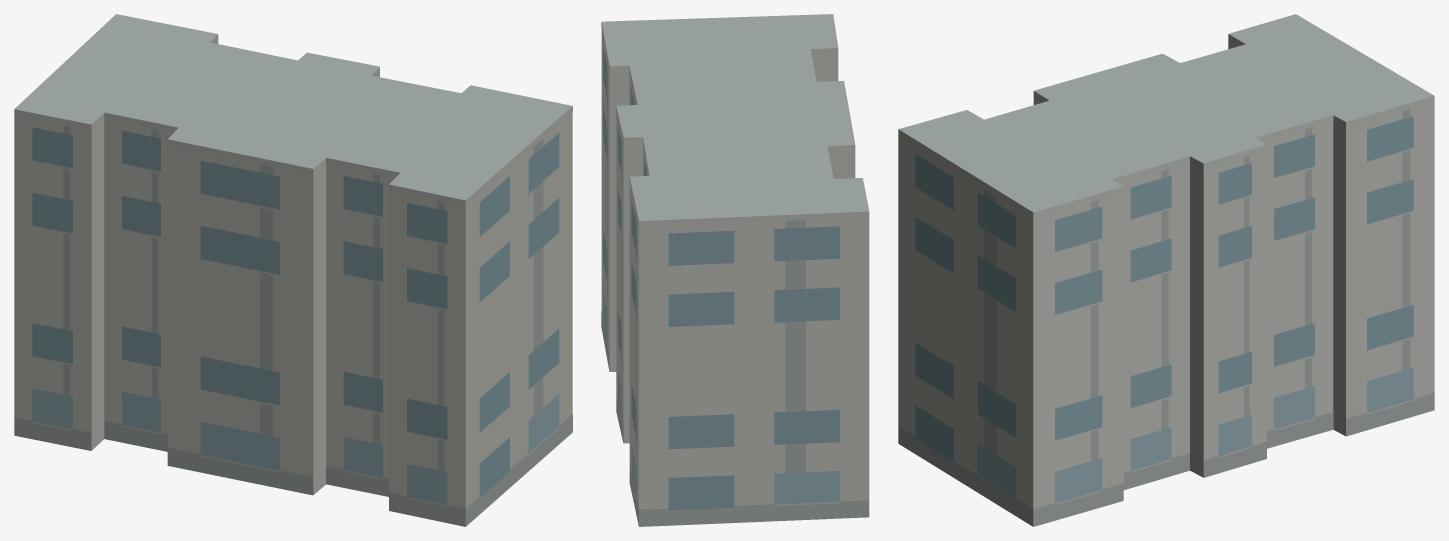
Rendered from survey-upis-33042191.glb.
The picture shows the model from 3 angles, left to right: view 1: azimuth 30°, elevation 25°; view 2: azimuth 150°, elevation 25°; view 3: azimuth 270°, elevation 25°; orthographic projection. The views are drawn at different scales.
Parts seen in each view (by area): view 1: survey-upis-33042191.tmp; view 2: survey-upis-33042191.tmp; view 3: survey-upis-33042191.tmp.
Boxes of the visible parts, x1,y1,x2,y2 form: survey-upis-33042191.tmp: (14,14,572,526); survey-upis-33042191.tmp: (601,14,869,526); survey-upis-33042191.tmp: (898,14,1434,526).
Size of the model in its own units: 16.93 by 12.5 by 19.33.
